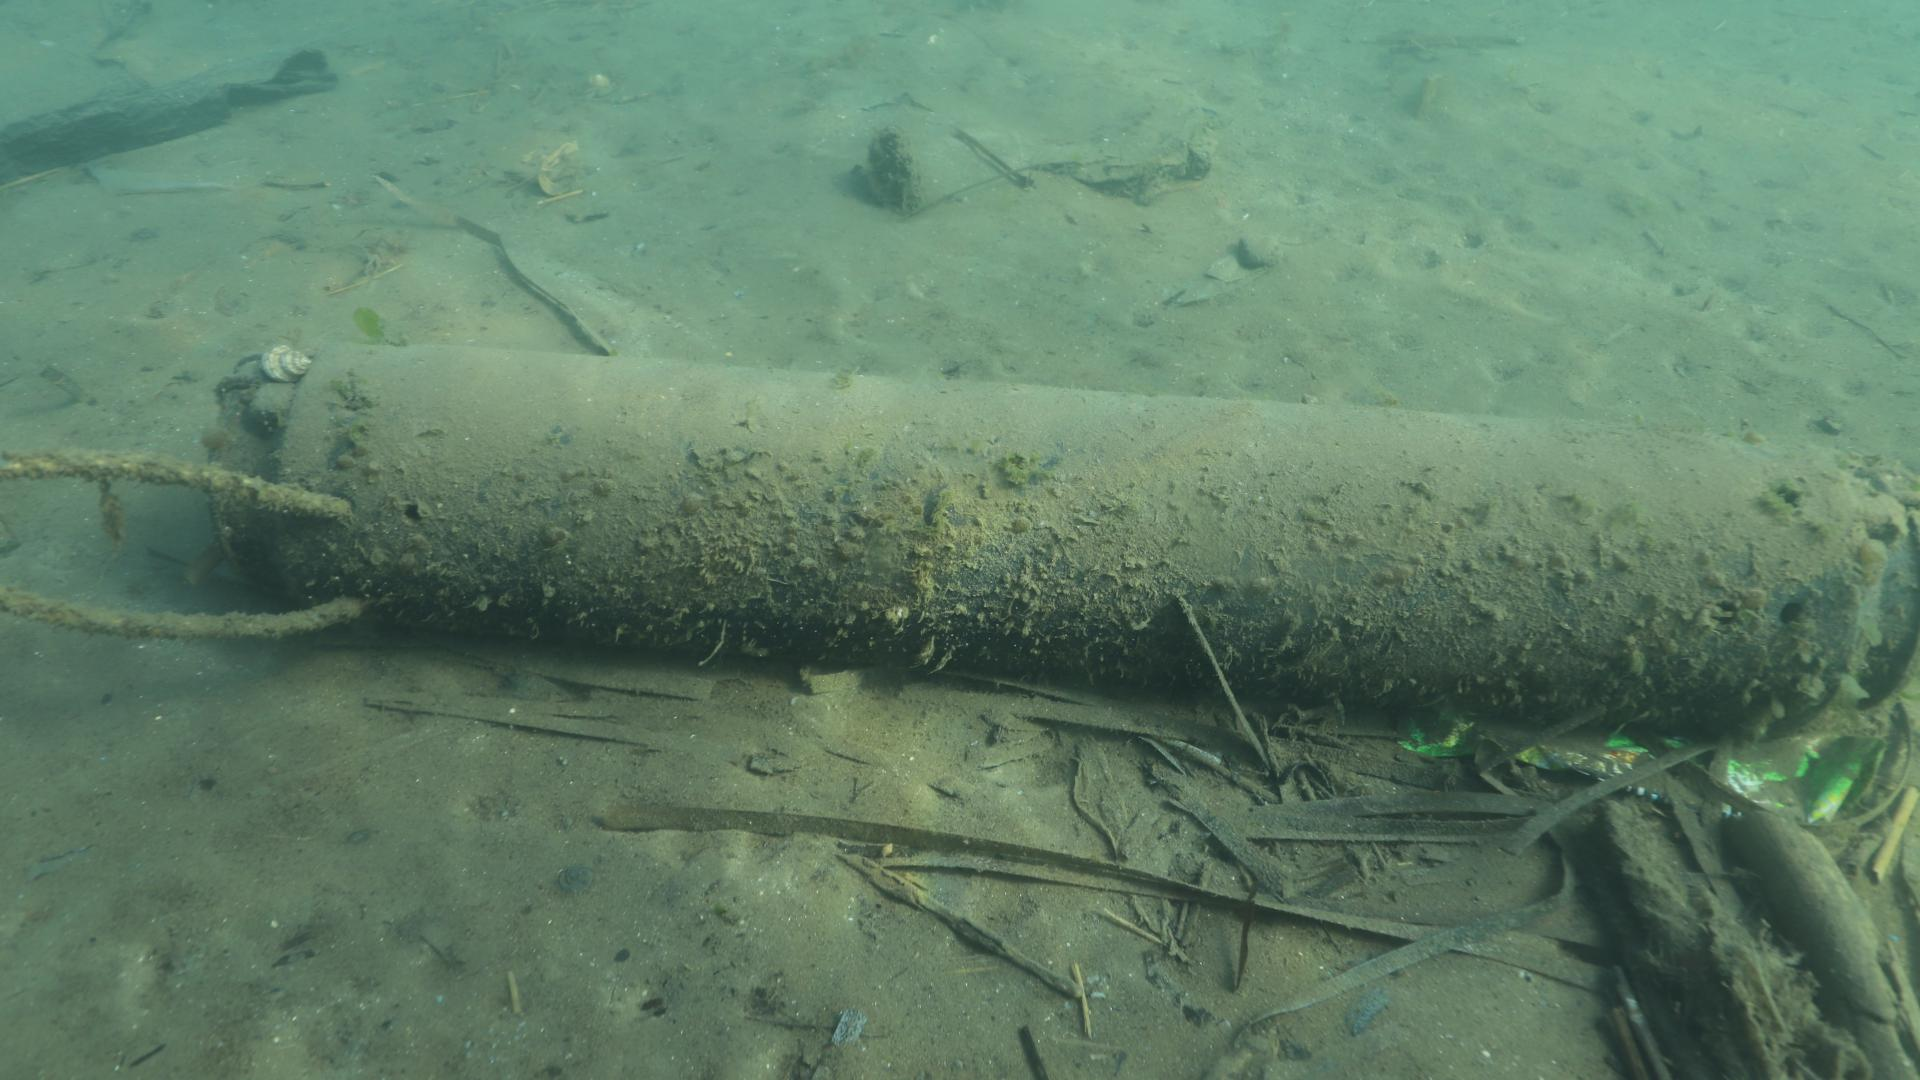eel fish trap: (204, 340, 1920, 738)
rope: (0, 448, 367, 640)
